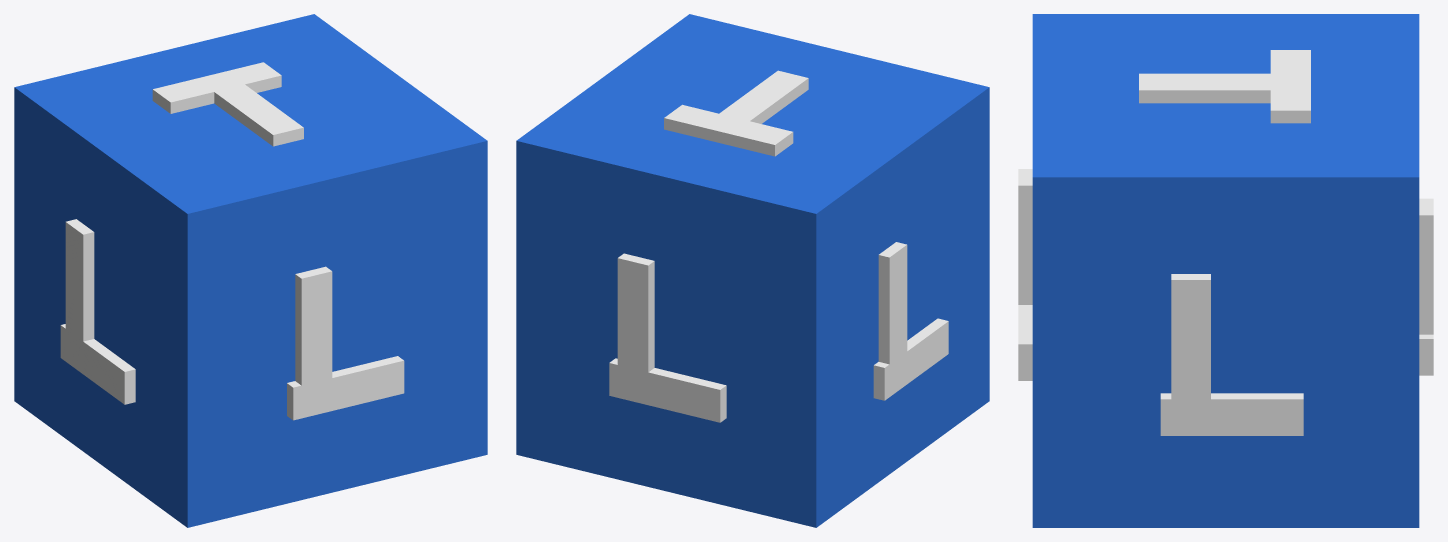
File: TARGET_9.glb
3 views of the same model, side by side, from view 1: azimuth 30°, elevation 25°; view 2: azimuth 150°, elevation 25°; view 3: azimuth 270°, elevation 25° (orthographic). The views are drawn at different scales.
Visible parts, largest first — view 1: TARGET_HIGH_9; view 2: TARGET_HIGH_9; view 3: TARGET_HIGH_9.
Part boxes in pixels (x1,y1,x2,y2): TARGET_HIGH_9: [14, 14, 487, 527]; TARGET_HIGH_9: [516, 14, 989, 527]; TARGET_HIGH_9: [1018, 14, 1433, 527].
Bounding box in the file's own units: 2.15 × 2.15 × 2.15.
